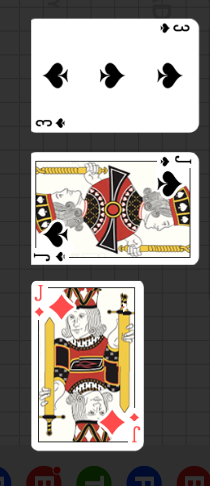3S: (35, 116, 68, 129)
JD: (129, 409, 143, 444)
JS: (33, 220, 80, 264), (154, 153, 200, 197)
